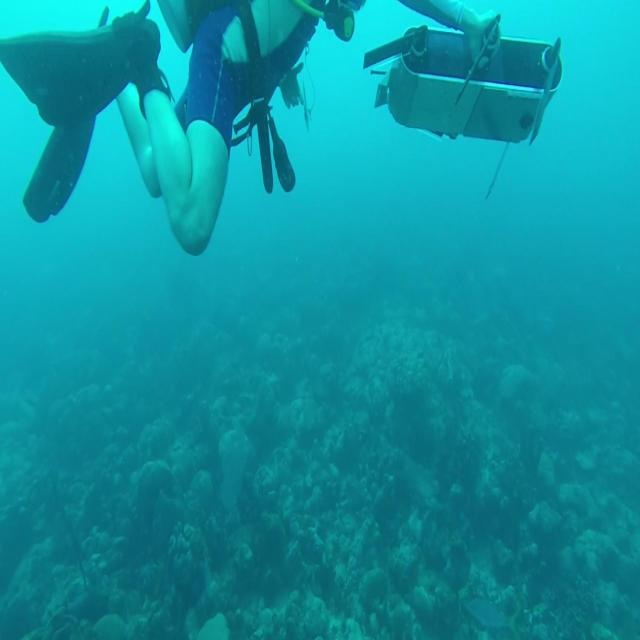human: (1, 0, 502, 257)
